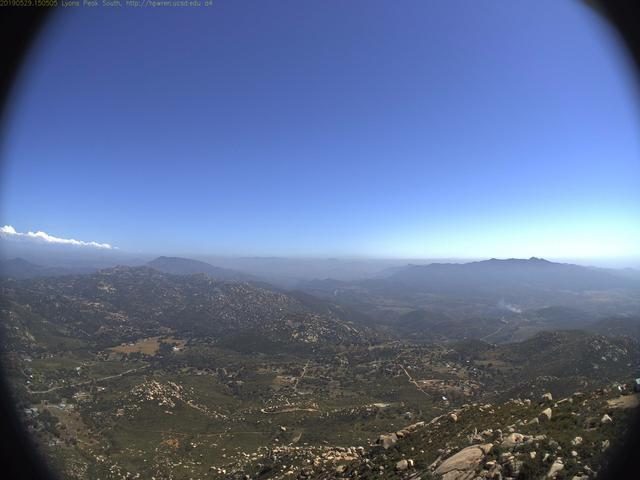Smoke: (495, 297, 526, 317)
